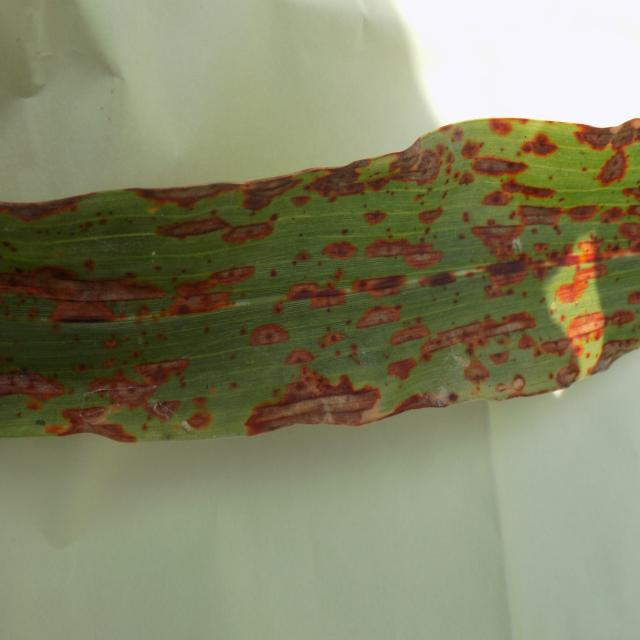millet_rust: (3, 108, 638, 446)
